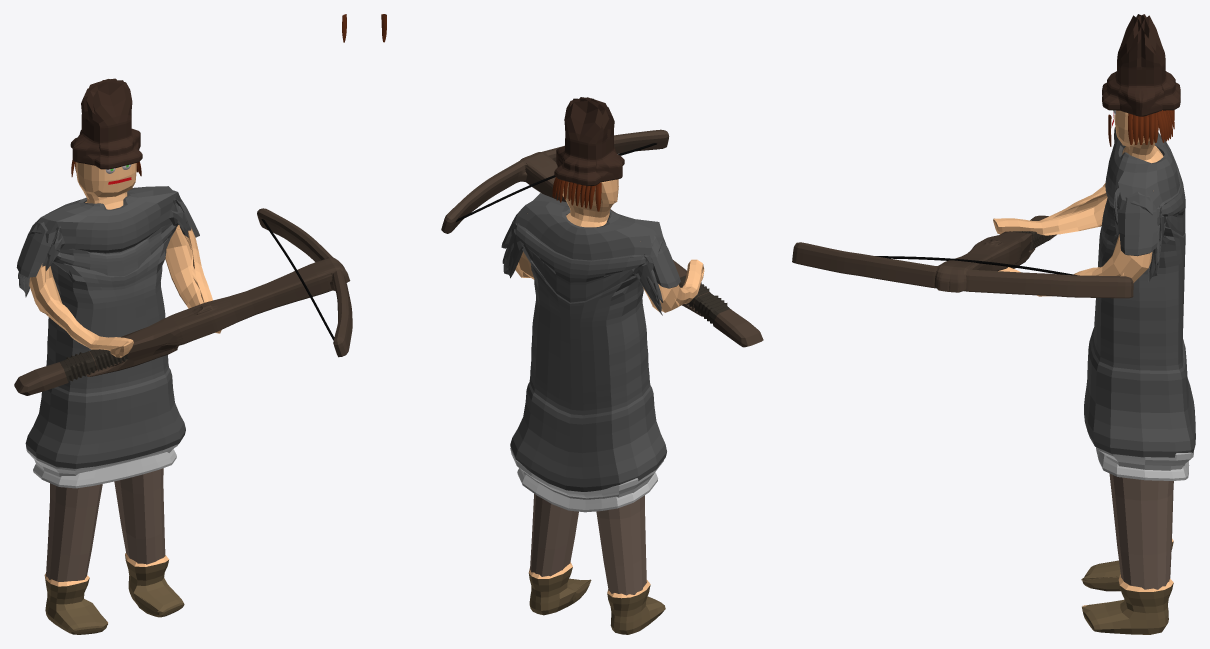
The model's file is panacek s kusi.fbx.
The picture shows the model from 3 angles, left to right: view 1: azimuth 30°, elevation 25°; view 2: azimuth 150°, elevation 25°; view 3: azimuth 270°, elevation 25°; orthographic projection. The views are drawn at different scales.
Parts seen in each view (by area): view 1: horní_část_brnění, Cube.001, kalhoty, Cube, botty, Cube.002, horní_část_brnění.001; view 2: horní_část_brnění, kalhoty, Cube.001, Cube.002, botty, Cube, horní_část_brnění.001; view 3: horní_část_brnění, Cube.001, kalhoty, Cube.002, Cube, botty, horní_část_brnění.001, tetiva.
Part boxes in pixels (x1,y1,x2,y2): horní_část_brnění: (16,186,199,469); Cube.001: (14,208,352,395); kalhoty: (46,468,165,581); Cube: (29,162,221,357); botty: (44,553,184,634); Cube.002: (70,78,142,169); horní_část_brnění.001: (26,444,178,488); horní_část_brnění: (501,193,680,491); kalhoty: (530,494,646,595); Cube.001: (441,129,763,347); Cube.002: (554,97,624,185); botty: (528,562,665,634); Cube: (515,179,704,312); horní_část_brnění.001: (510,447,664,512); horní_část_brnění: (1084,127,1195,457); Cube.001: (792,215,1133,298); kalhoty: (1109,473,1173,589); Cube.002: (1102,14,1180,116); Cube: (993,110,1163,296); botty: (1081,538,1173,634); horní_část_brnění.001: (1096,447,1193,480); tetiva: (875,256,1076,275).
Bounding box in the file's own units: 263 × 387 × 230.
